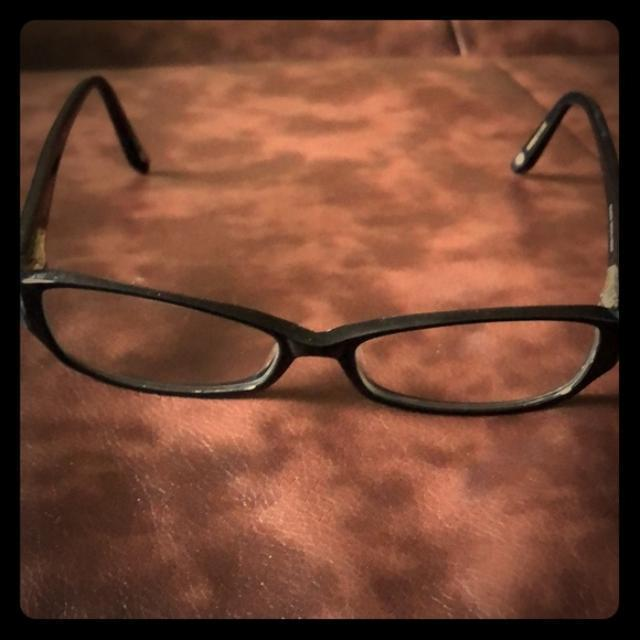glasses: (14, 74, 630, 413)
